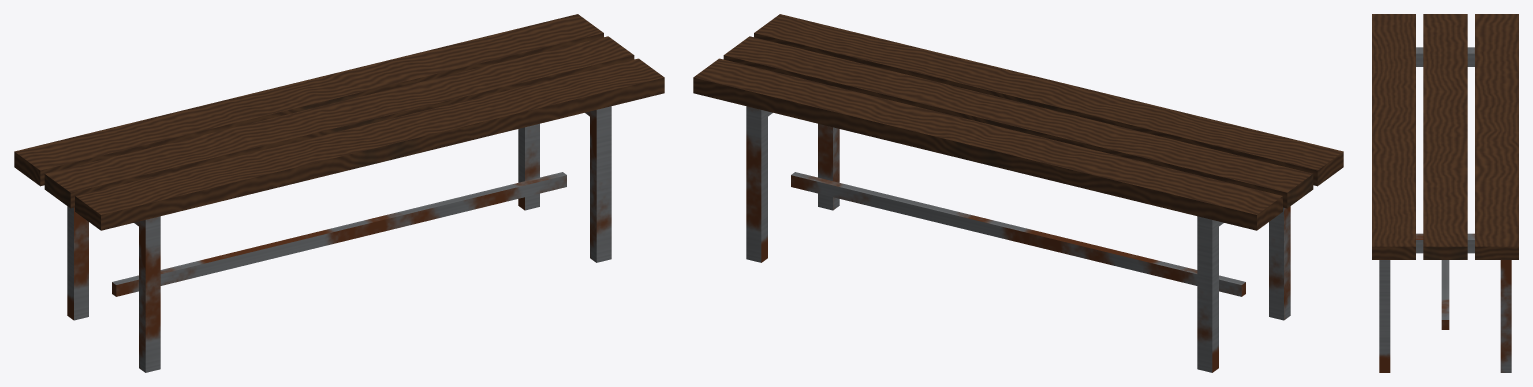
File: SM_Bench.fbx
3 renders of one model, left to right at view 1: azimuth 30°, elevation 25°; view 2: azimuth 150°, elevation 25°; view 3: azimuth 270°, elevation 25°, orthographic. The views are drawn at different scales.
Visible parts, largest first — view 1: SM_Bench; view 2: SM_Bench; view 3: SM_Bench.
Part boxes in pixels (x1,y1,x2,y2): SM_Bench: (14, 14, 664, 372); SM_Bench: (693, 14, 1343, 372); SM_Bench: (1372, 14, 1518, 372).
Size of what is drawn, in the model's own units: 1.5 by 0.44 by 0.4.
Materials: 2 (2 with a texture image).
